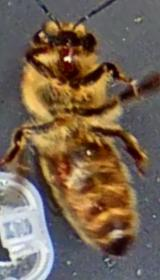varroa_mite: (48, 154, 74, 193)
